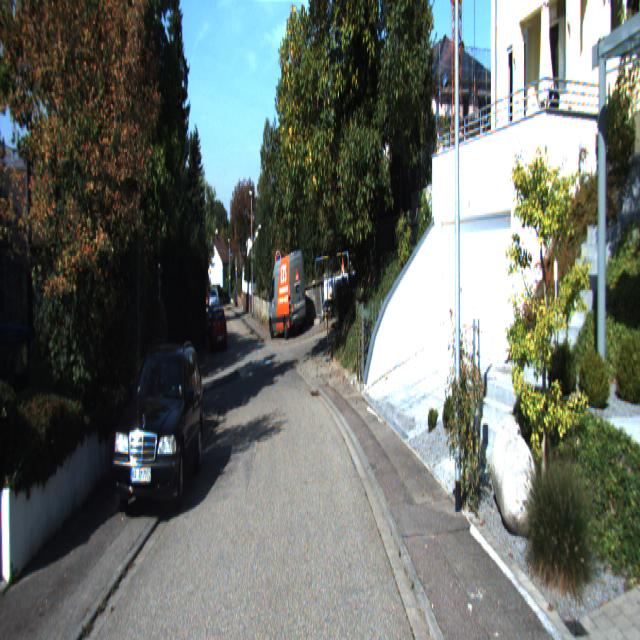Car: (110, 334, 208, 518), (268, 249, 308, 340), (208, 309, 228, 358)
